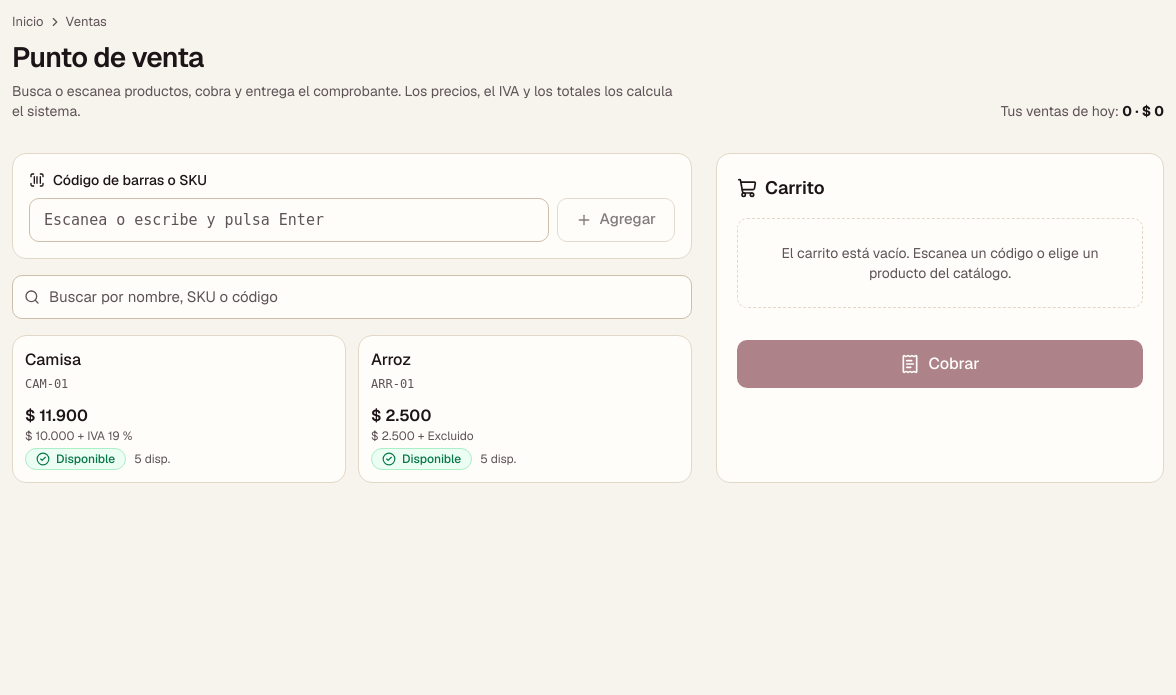
Test case: Punto de venta › agrega productos, cambia cantidades y muestra el total que calcula el backend
The width and height of the screenshot is (1176, 695).
Click the button with aria-label "Agregar Camisa" at (53, 359), box [12,334,346,482]
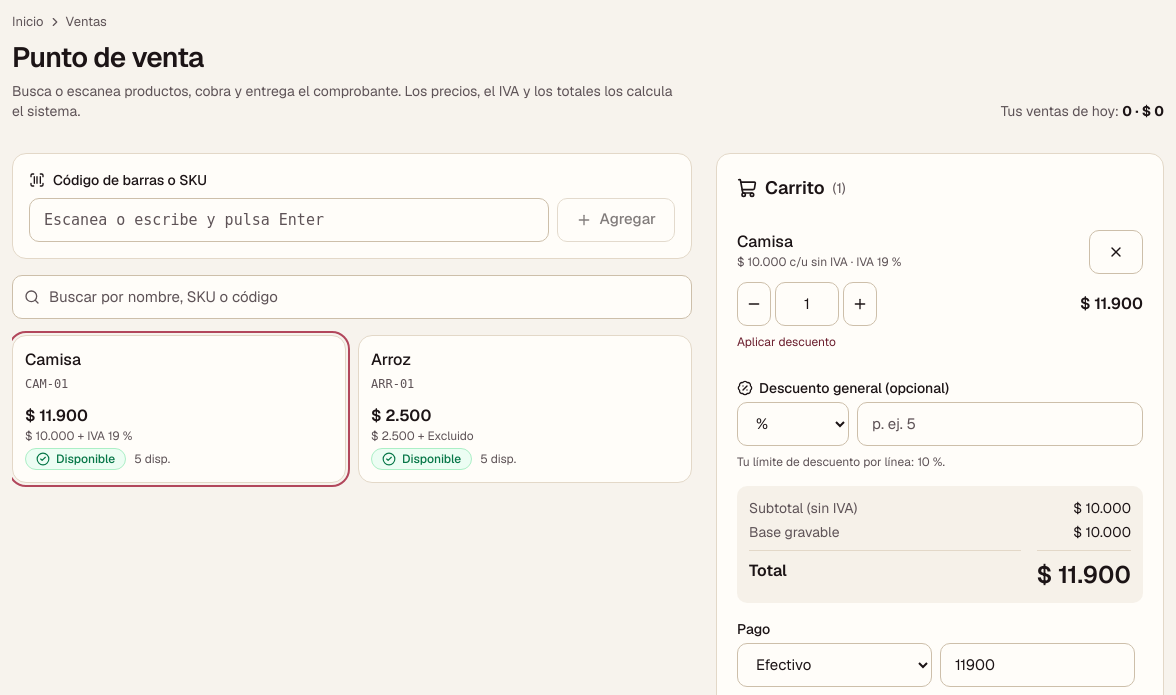
Expected: the text with test id "total-venta" shows "11.900", [1036,558,1131,590]
Click the button named "Sumar una unidad" at (860, 304), box [843,282,877,326]
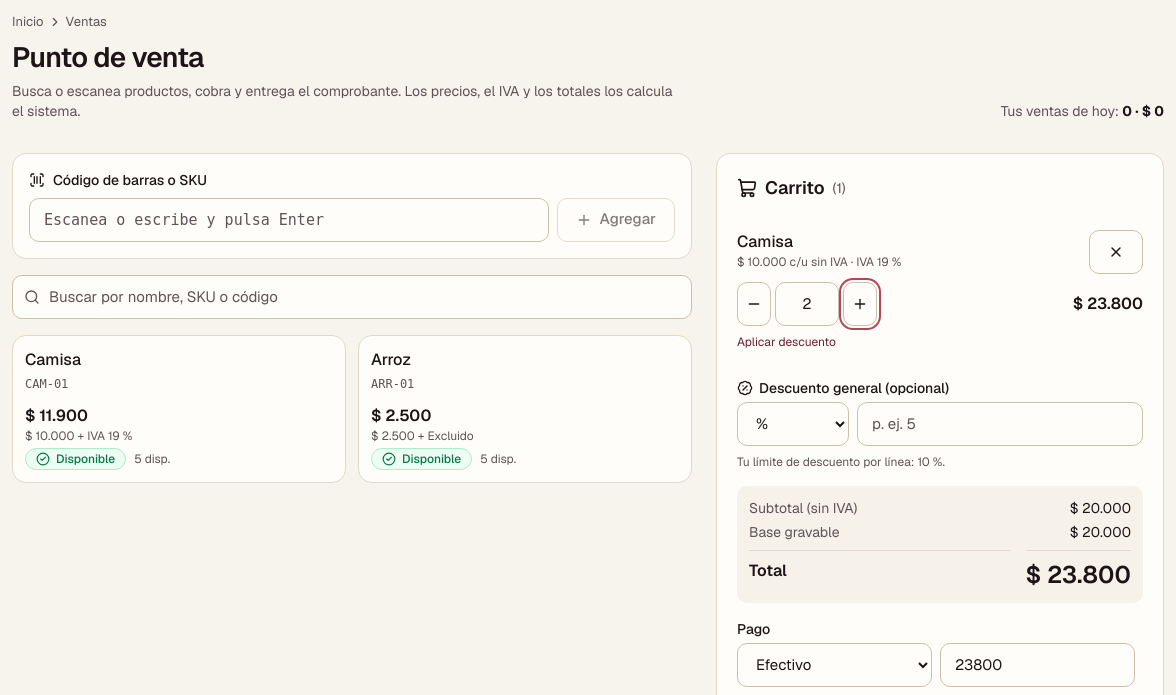
Expected: the text with test id "total-venta" shows "23.800", [1026,558,1131,590]
Click the button with aria-label "Agregar Arroz" at (391, 359), box [358,334,692,482]
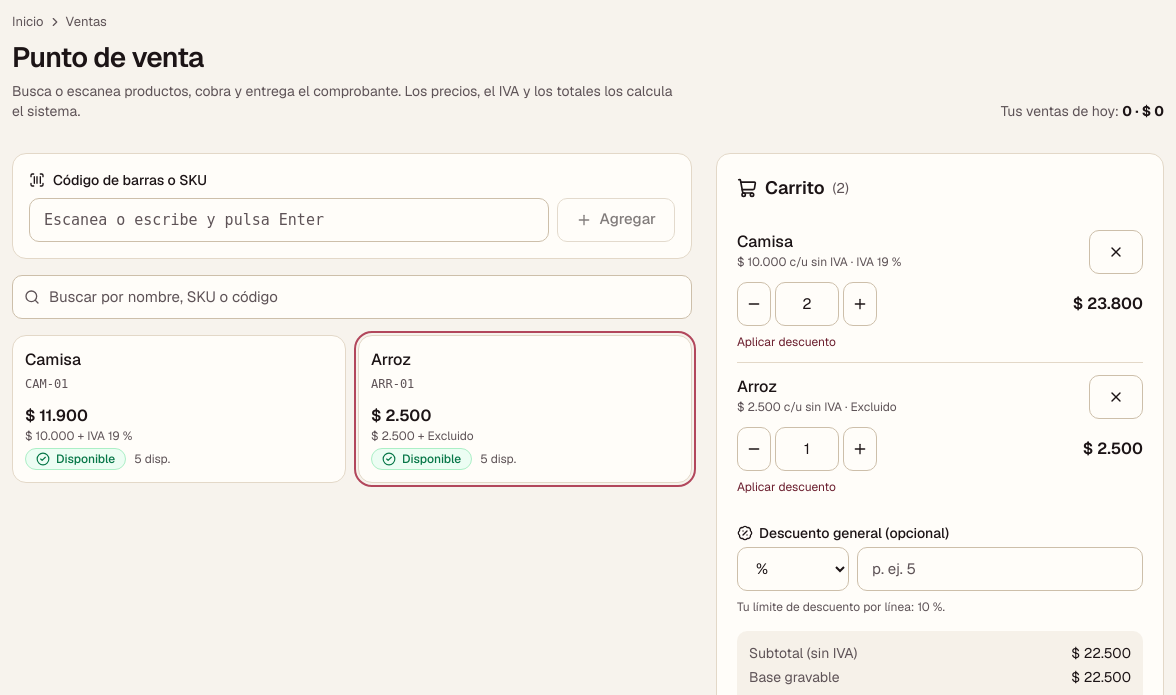
Click the button named "Quitar Arroz" at (1116, 396), box [1089,374,1143,418]
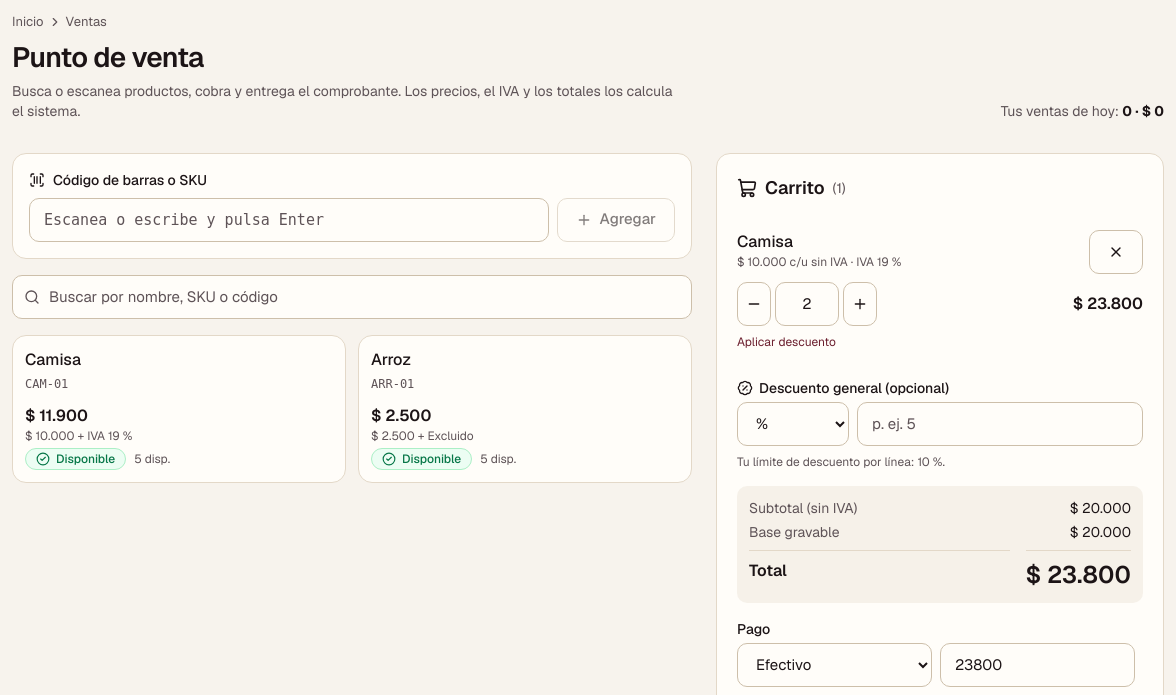
Expected: the text with test id "total-venta" shows "23.800", [1026,558,1131,590]
